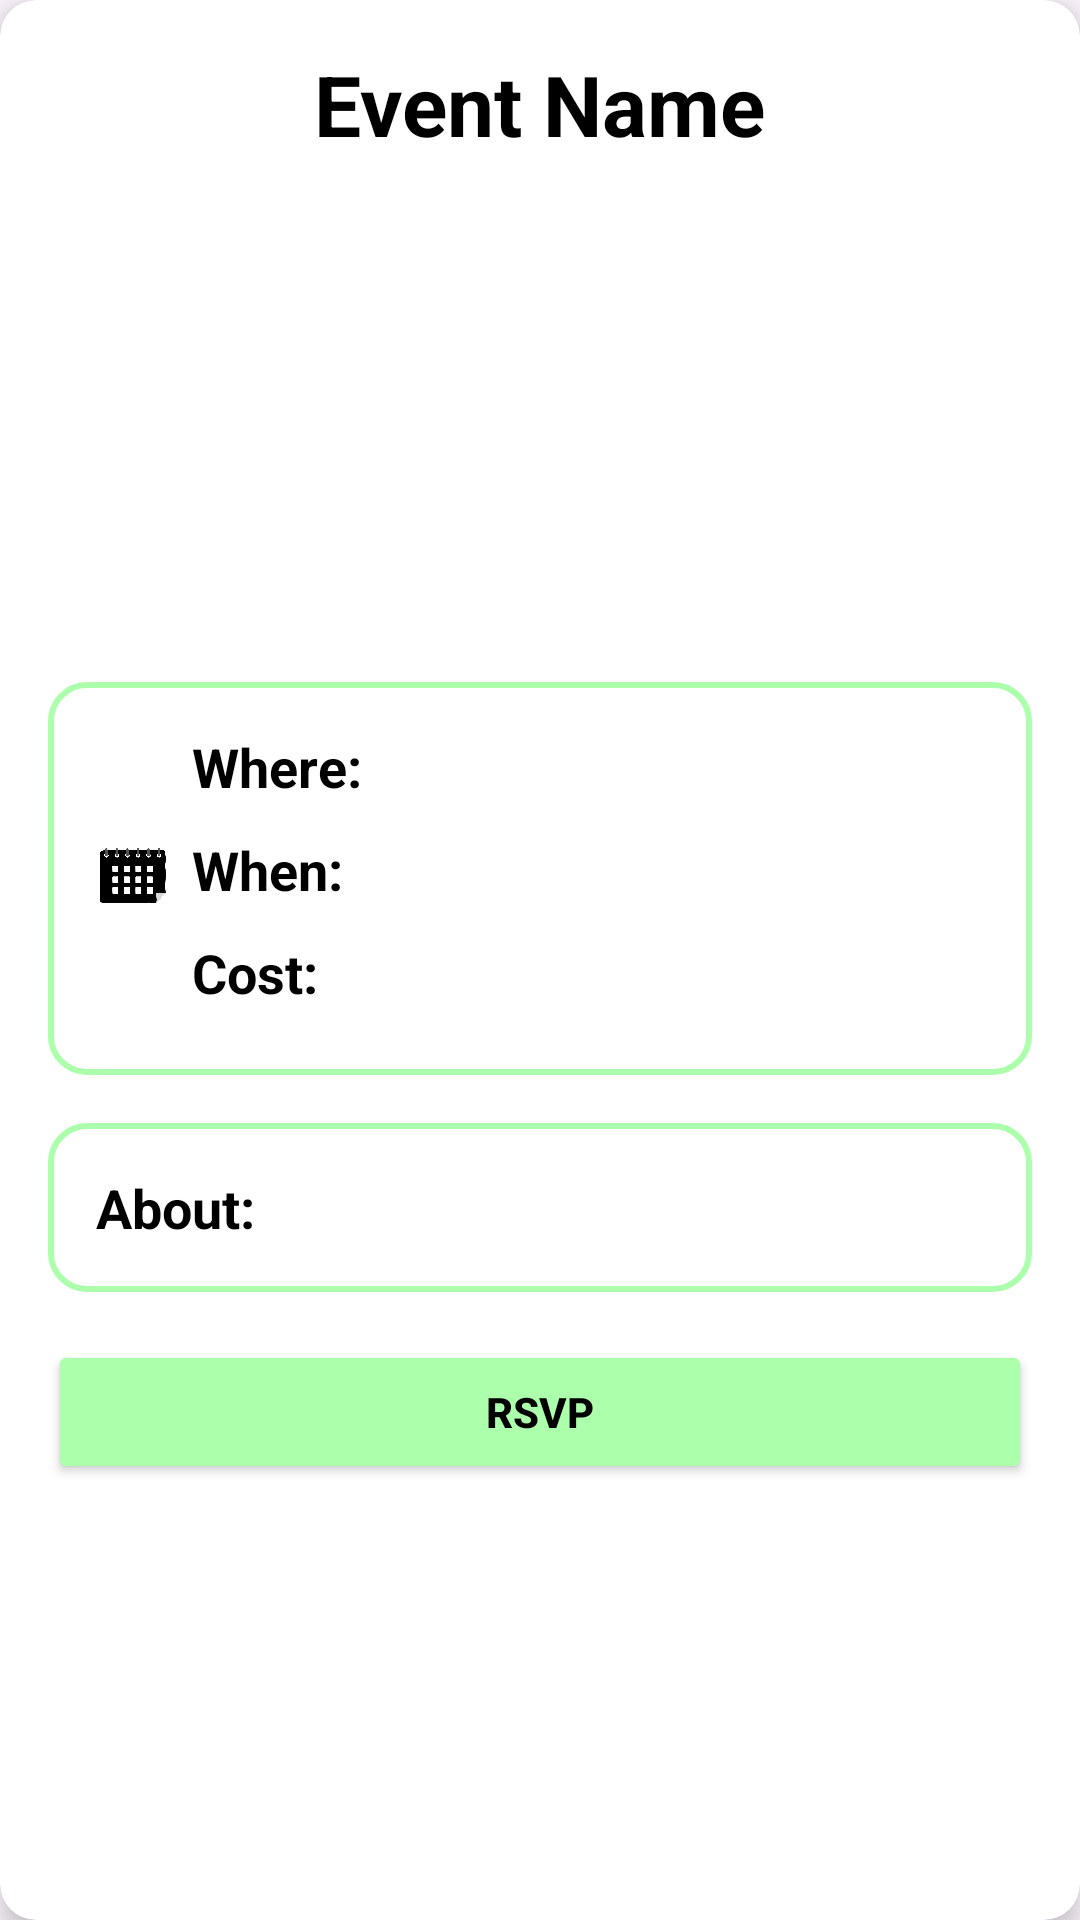

Where to tap for icons on this 1080×1920 app screen, as [x,y]:
calendar: [133,875]
